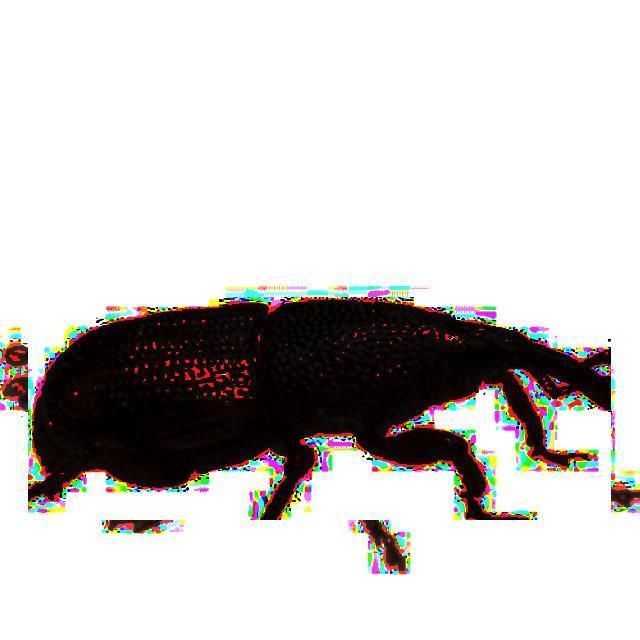rice-bug: (28, 297, 611, 520)
